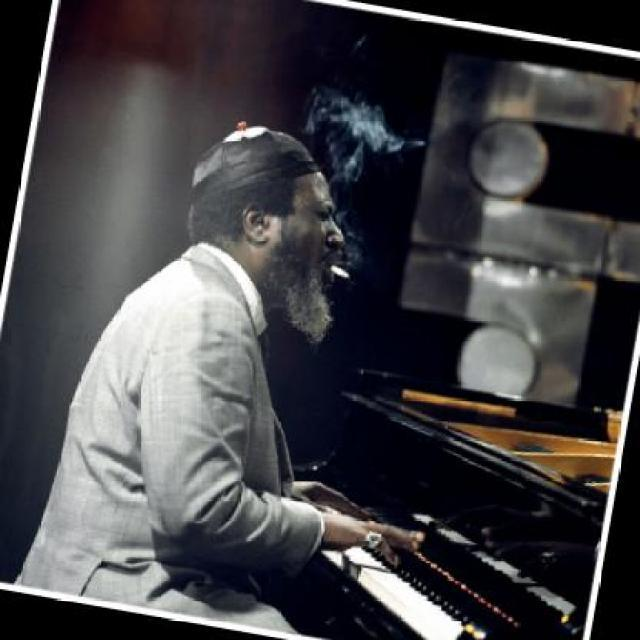cigarette: (320, 260, 354, 282)
